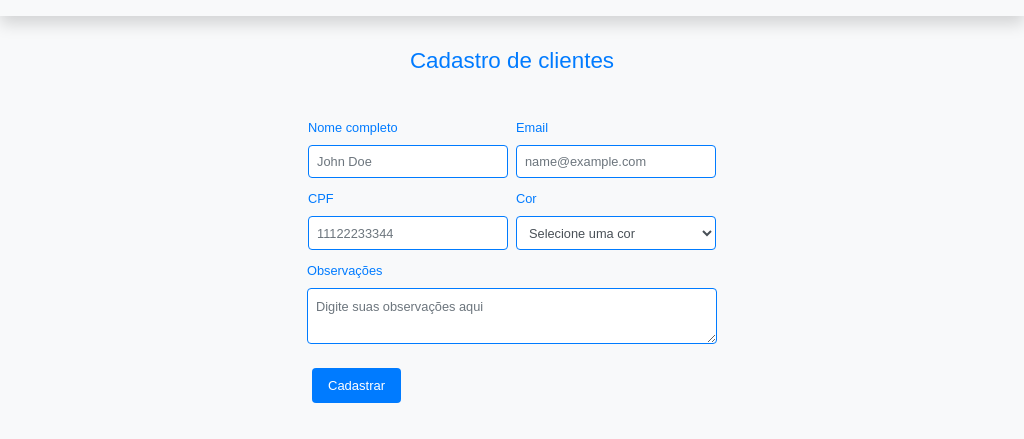
Client Registration Form › should show validation error for empty name
In the field with id "email": (616,162) x1=516 y1=145 x2=716 y2=178, type "john.doe@example.com"
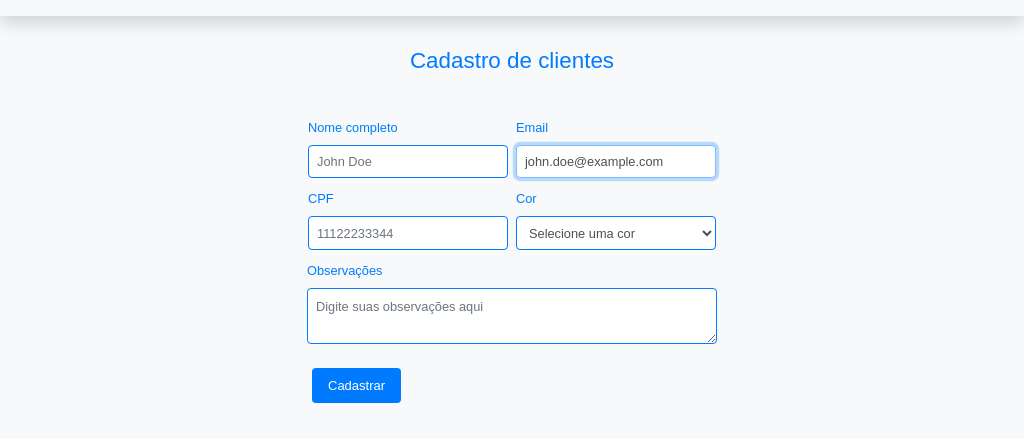
In the field with id "cpf": (408,233) x1=308 y1=216 x2=508 y2=249, type "12345678901"
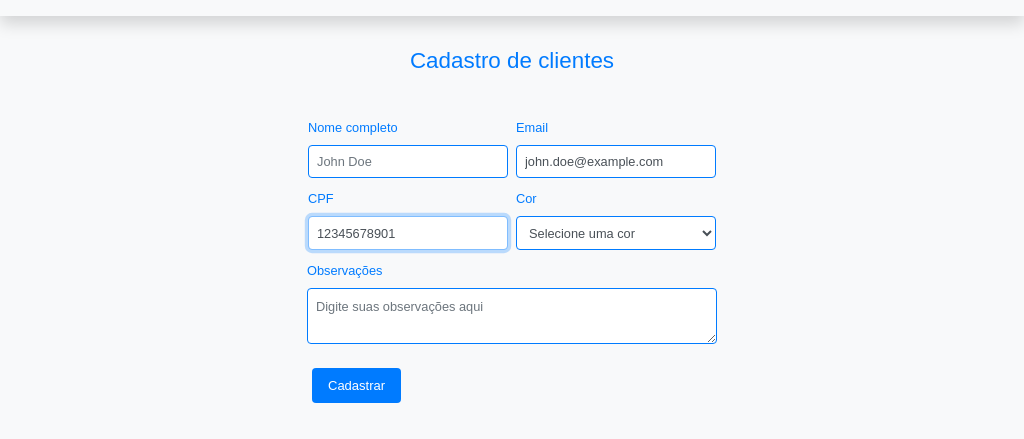
Select "Azul" in the dropdown with id "color": (616,233) x1=516 y1=216 x2=716 y2=249
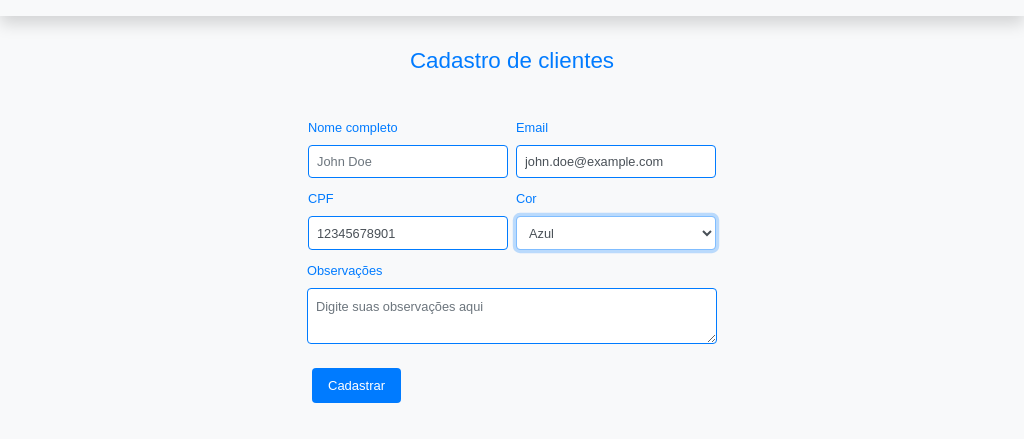
In the text box with id "annotations": (512,316) x1=307 y1=288 x2=717 y2=344, type "No additional notes."
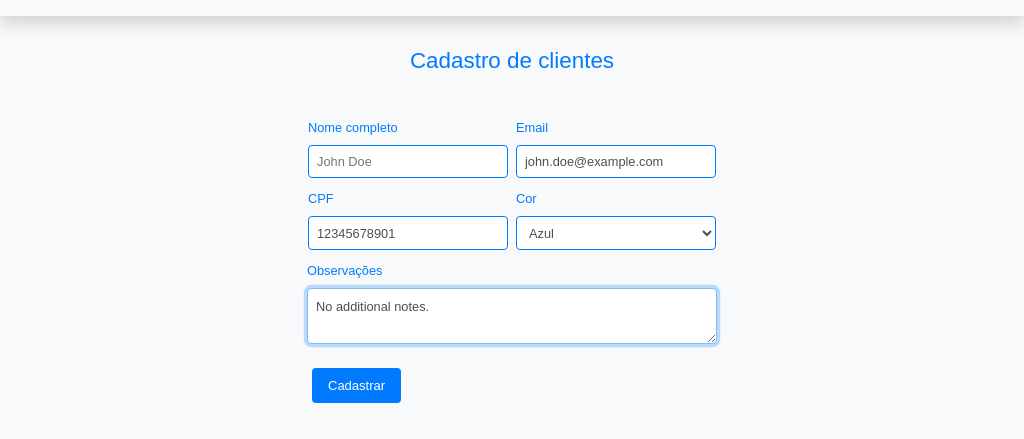
Click the submit button: (357,386) x1=312 y1=368 x2=401 y2=403
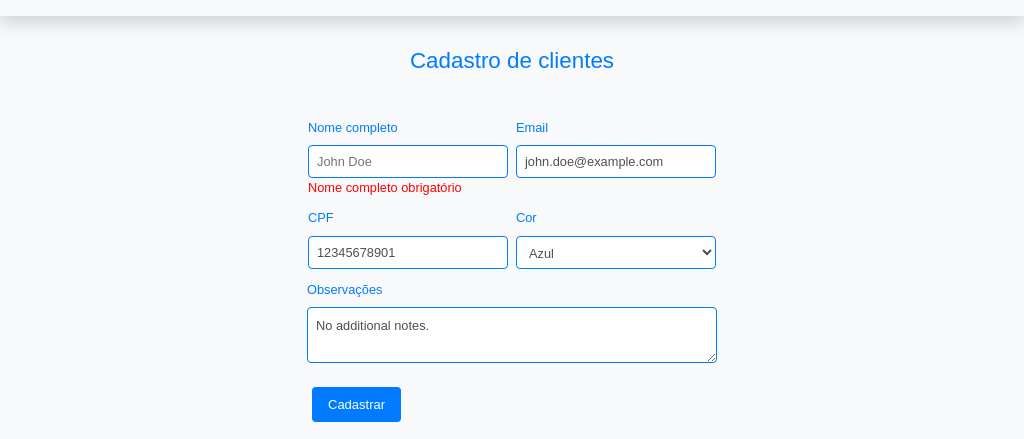
Now the text with class "error" reads "Nome completo obrigatório", box x1=308 y1=180 x2=462 y2=195
